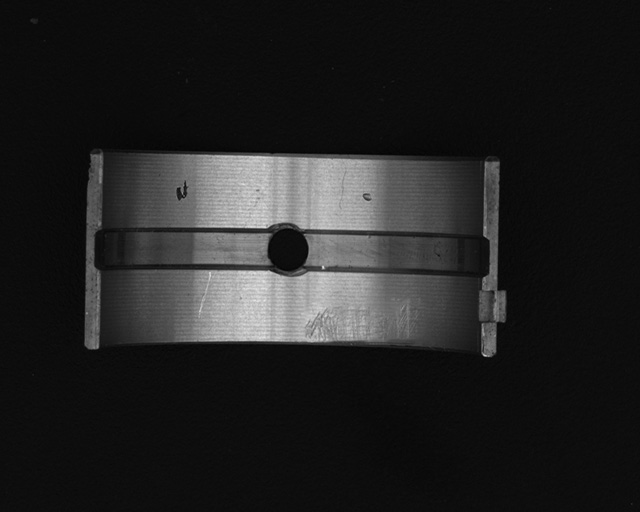blot: (176, 180, 189, 203)
bruise: (362, 192, 373, 202)
gap: (299, 229, 490, 278), (91, 227, 274, 273)
hole: (266, 223, 309, 280)
nick: (197, 271, 211, 319), (339, 171, 346, 209)
scratch: (303, 299, 421, 347)
